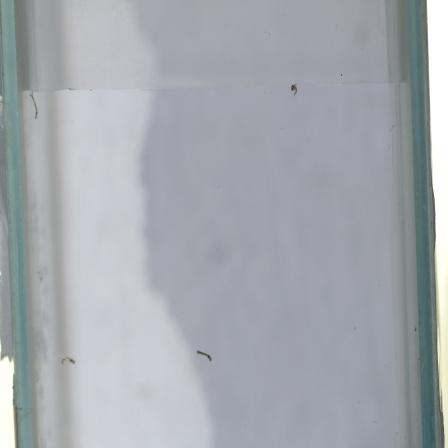Jentik-Nyamuk: (191, 340, 219, 367), (27, 90, 45, 125), (286, 83, 302, 101)
